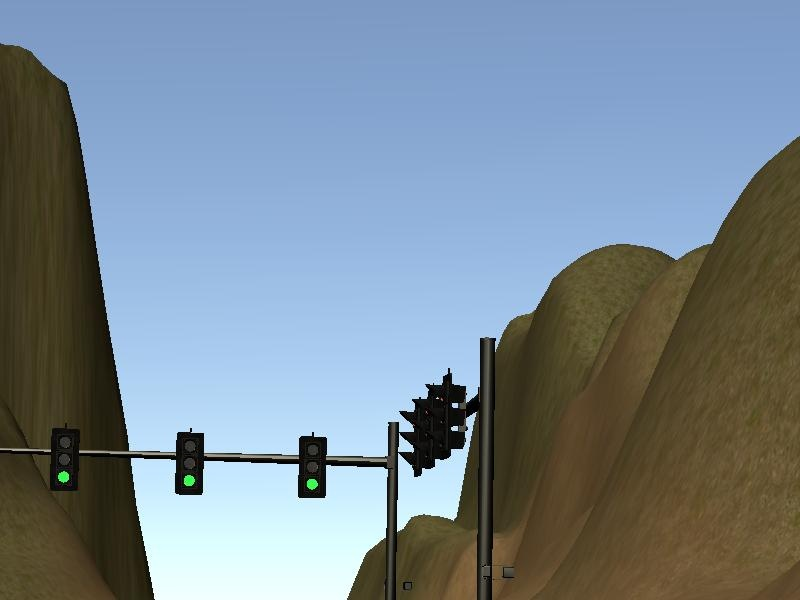green: (296, 435, 326, 496), (175, 433, 204, 496), (50, 427, 78, 490)
